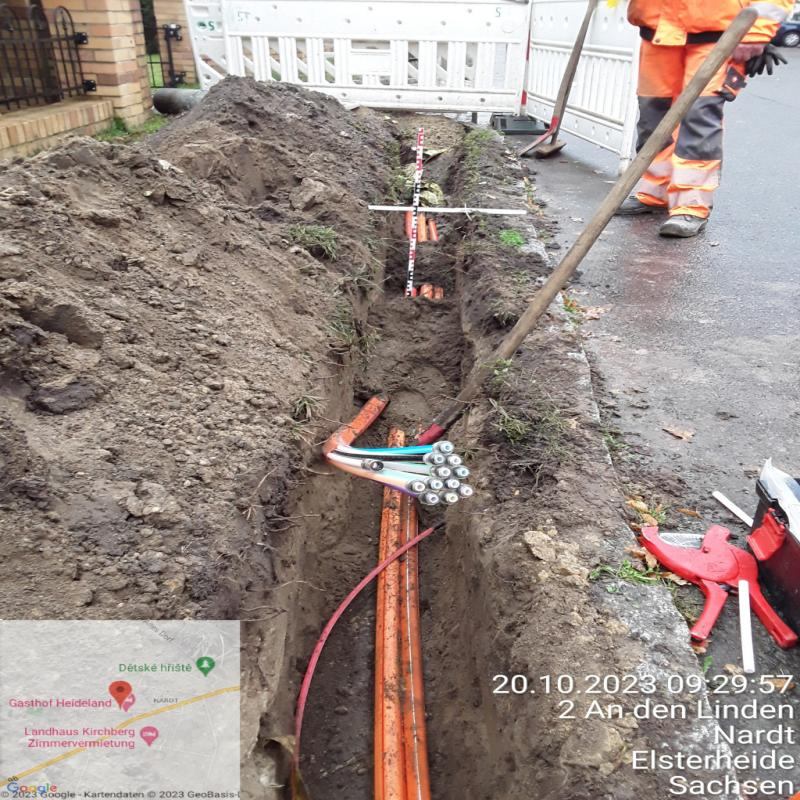Orang-Speednetrohrchen: (320, 394, 473, 507), (376, 489, 428, 797)
